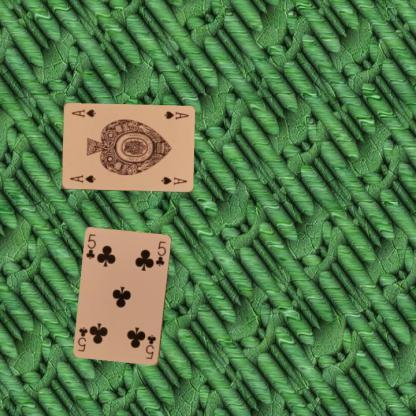5c: (143, 332, 157, 361), (84, 232, 98, 260)
As: (67, 173, 96, 184), (161, 110, 190, 121)
